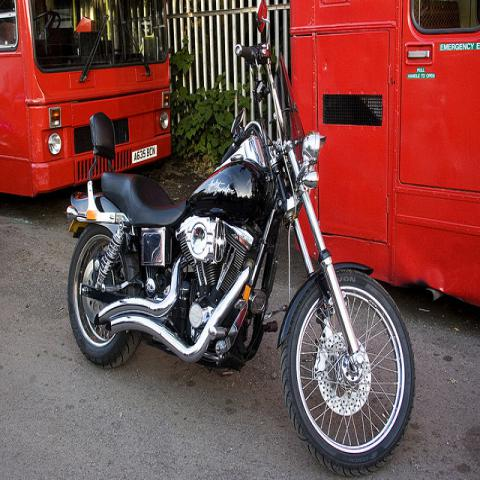bus: (290, 0, 479, 309), (1, 1, 174, 196)
motorcycle: (66, 12, 418, 474)
